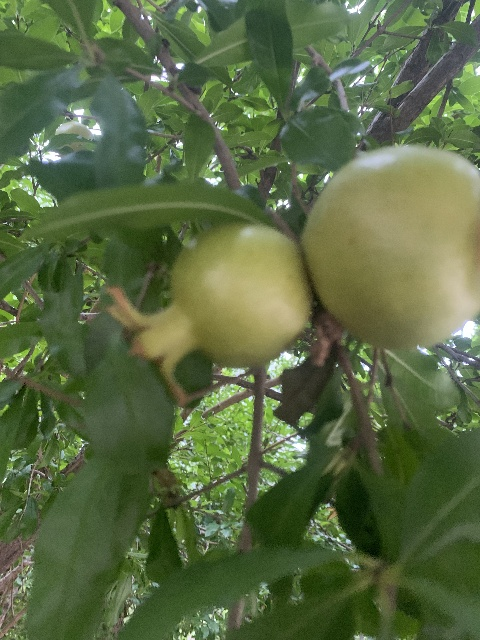mid-growth: (101, 221, 311, 403), (302, 144, 480, 353)
